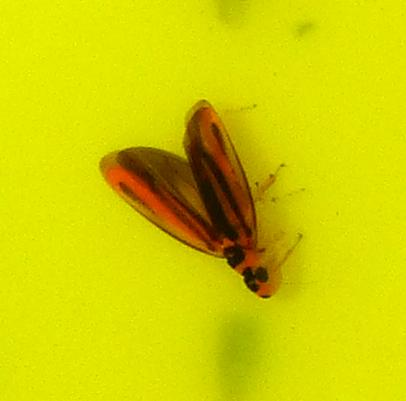Hemiptera: (100, 100, 306, 301)
